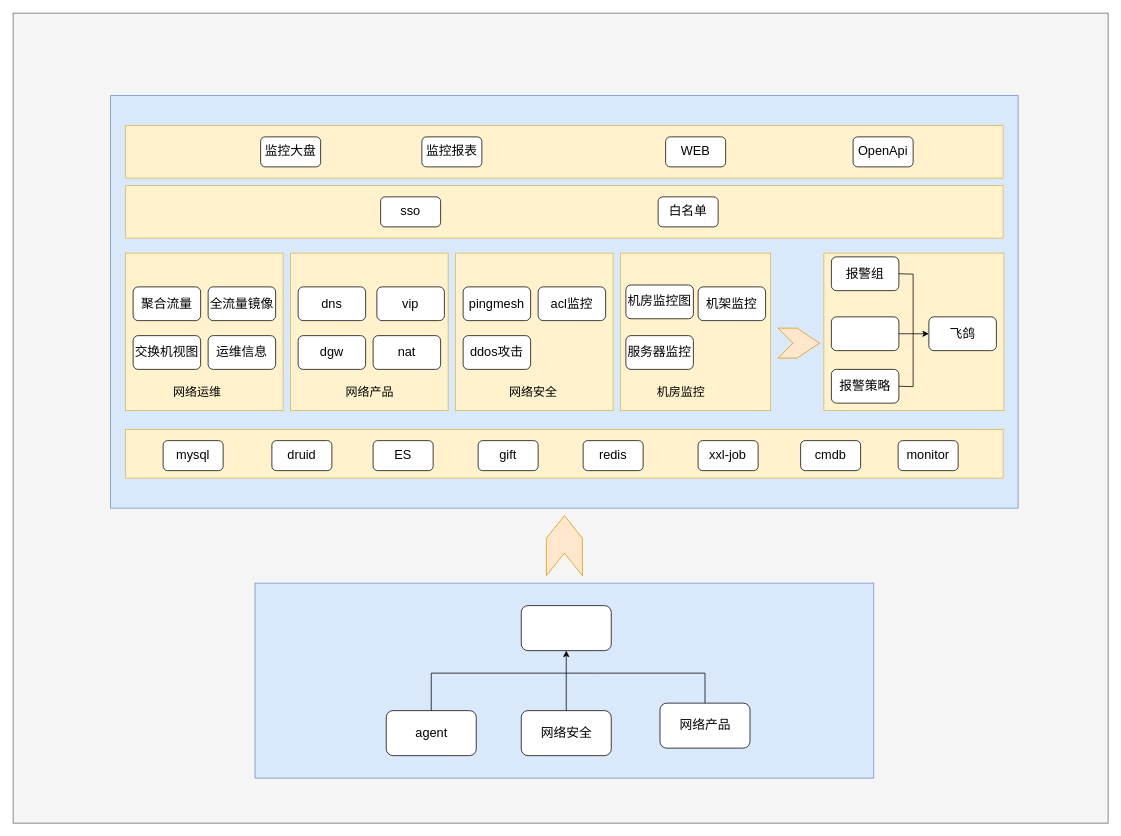
Image size: 1121x836. Some labels were removed from this diagram. The centre of each missing label's shape, as x and y in pixels:
报警屏蔽: point 865,333
消息队列: point 565,628
